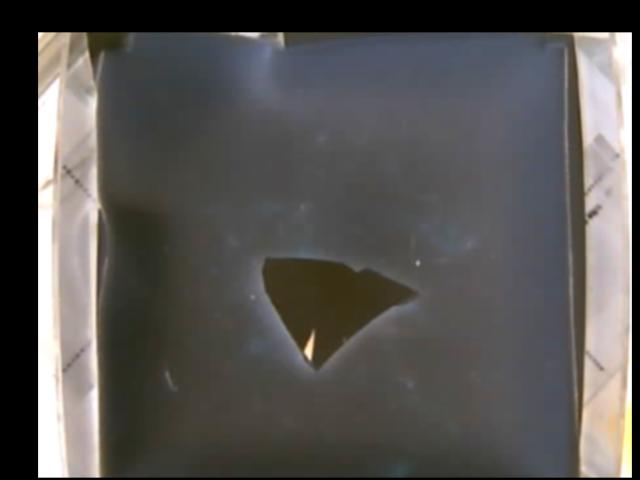China: (260, 255, 418, 366)
